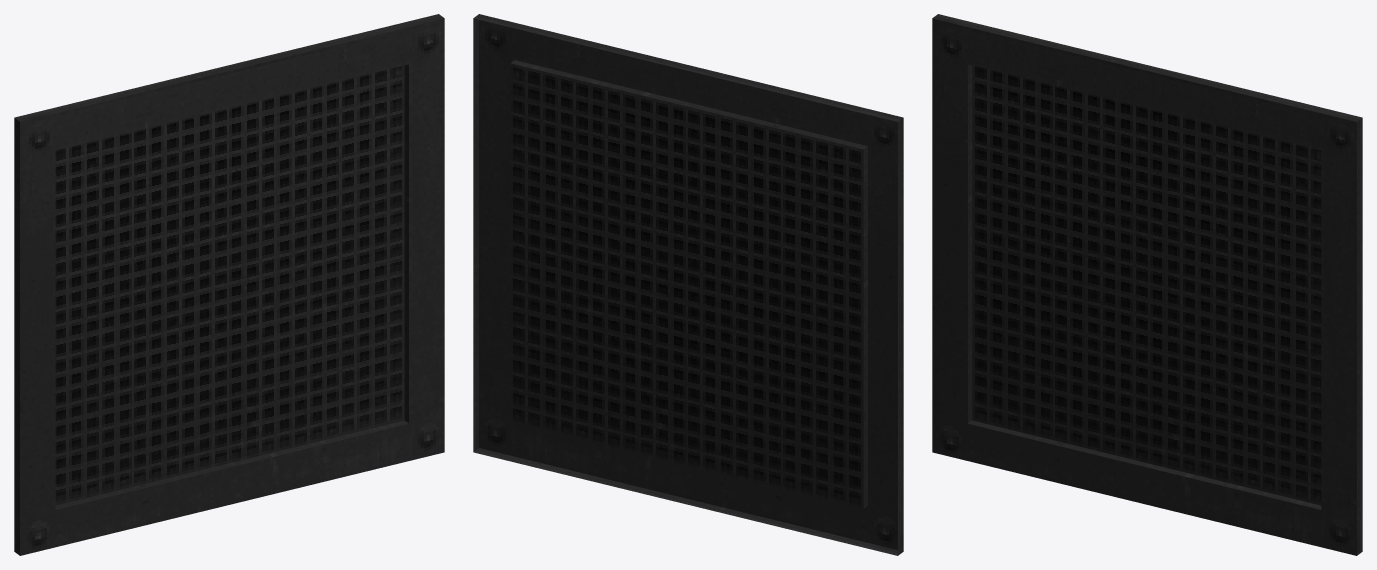
File: vent_3.glb
The picture shows the model from 3 angles, left to right: view 1: azimuth 30°, elevation 25°; view 2: azimuth 150°, elevation 25°; view 3: azimuth 330°, elevation 25°; orthographic projection.
Visible parts, largest first — view 1: vent_3; view 2: vent_3; view 3: vent_3.
Boxes of the visible parts, bbox=[...] form: vent_3: bbox=[14, 14, 444, 555]; vent_3: bbox=[473, 14, 903, 555]; vent_3: bbox=[932, 14, 1362, 555].
Bounding box in the file's own units: 0.8192 × 0.8 × 0.02.
Materials: 1 (1 with a texture image).
